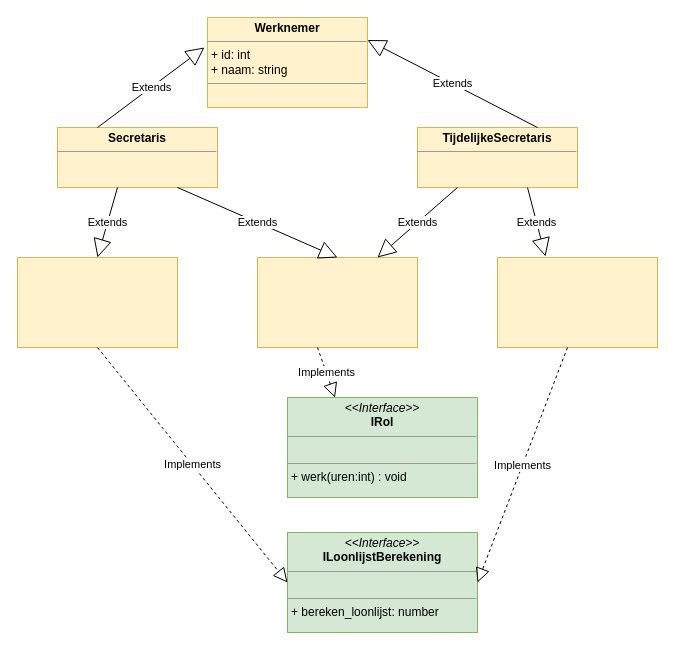
Image size: 675x650. Some labels were removed from this diagram. Each missing label, with the centre of its shape:
SalarisBeleid + bereken_loonlijst: number: [97,302]
SecretarisRol + werk(uren: int) : void: [337,302]
UurBeleid + bereken_loonlijst: number: [577,302]
